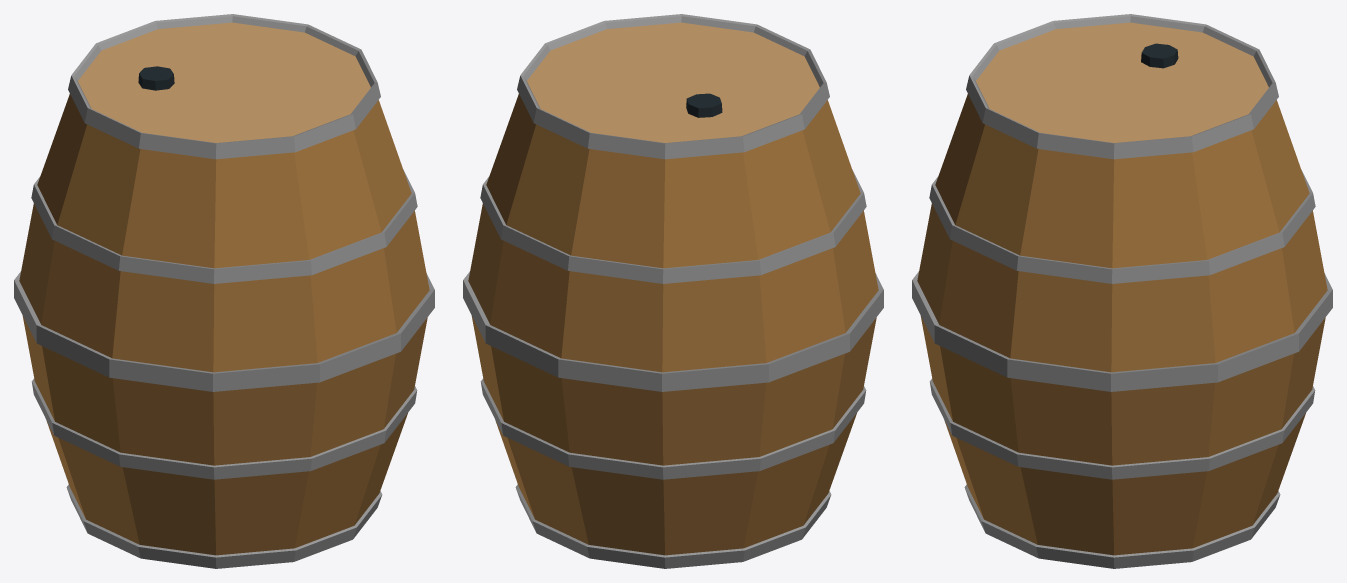
Rendered from Barrel_3.fbx.
The picture shows the model from 3 angles, left to right: view 1: azimuth 30°, elevation 25°; view 2: azimuth 150°, elevation 25°; view 3: azimuth 270°, elevation 25°; orthographic projection.
Parts seen in each view (by area): view 1: Barrel_3; view 2: Barrel_3; view 3: Barrel_3.
Part boxes in pixels (x1,y1,x2,y2): Barrel_3: (14,14,434,568); Barrel_3: (463,14,883,568); Barrel_3: (912,14,1332,568).
Size of the model in its own units: 72.96 by 72.96 by 82.07.
